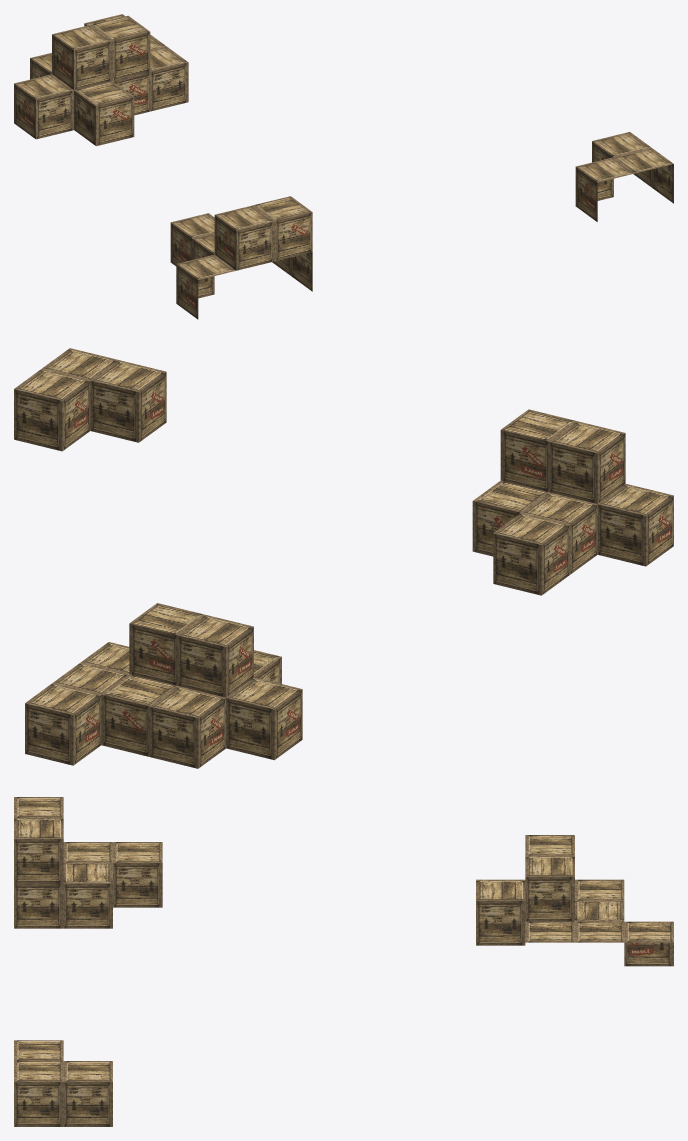
The model's file is cratesinalley.obj.
3 renders of one model, top to bottom at view 1: azimuth 30°, elevation 25°; view 2: azimuth 150°, elevation 25°; view 3: azimuth 270°, elevation 25°, orthographic. The views are drawn at different scales.
Parts seen in each view (by area): view 1: cratesinalley; view 2: cratesinalley; view 3: cratesinalley.
Part boxes in pixels (left/top/right/bottom): cratesinalley: left=14, top=14, right=673, bottom=319; cratesinalley: left=14, top=348, right=673, bottom=768; cratesinalley: left=14, top=797, right=673, bottom=1126.
Bounding box in the file's own units: 12.47 × 2.05 × 13.33.
Materials: 1 (1 with a texture image).
